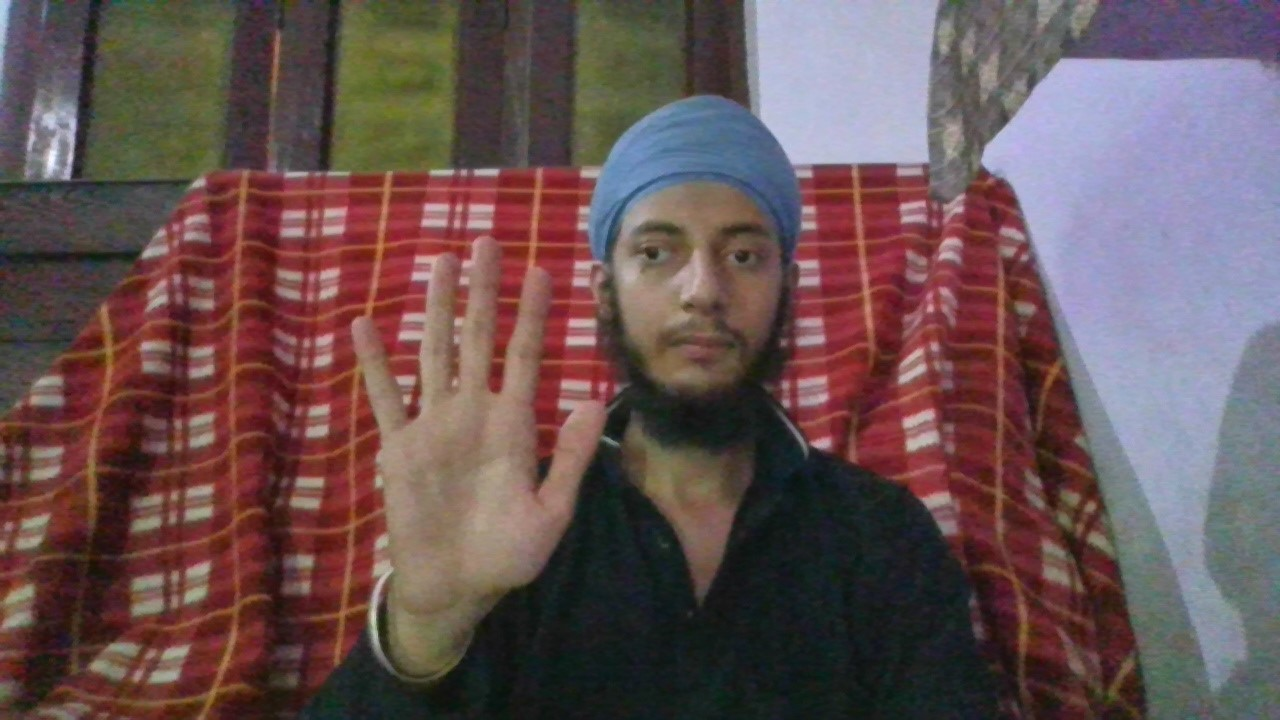Hello: (350, 235, 610, 601)
